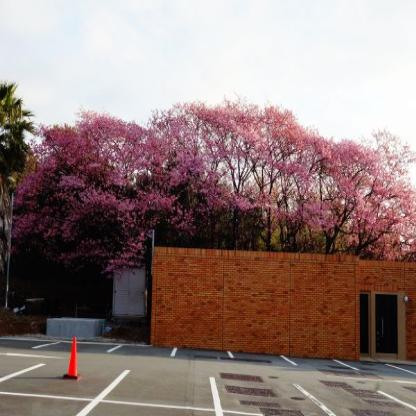KawazuSakura: (6, 96, 416, 268)
